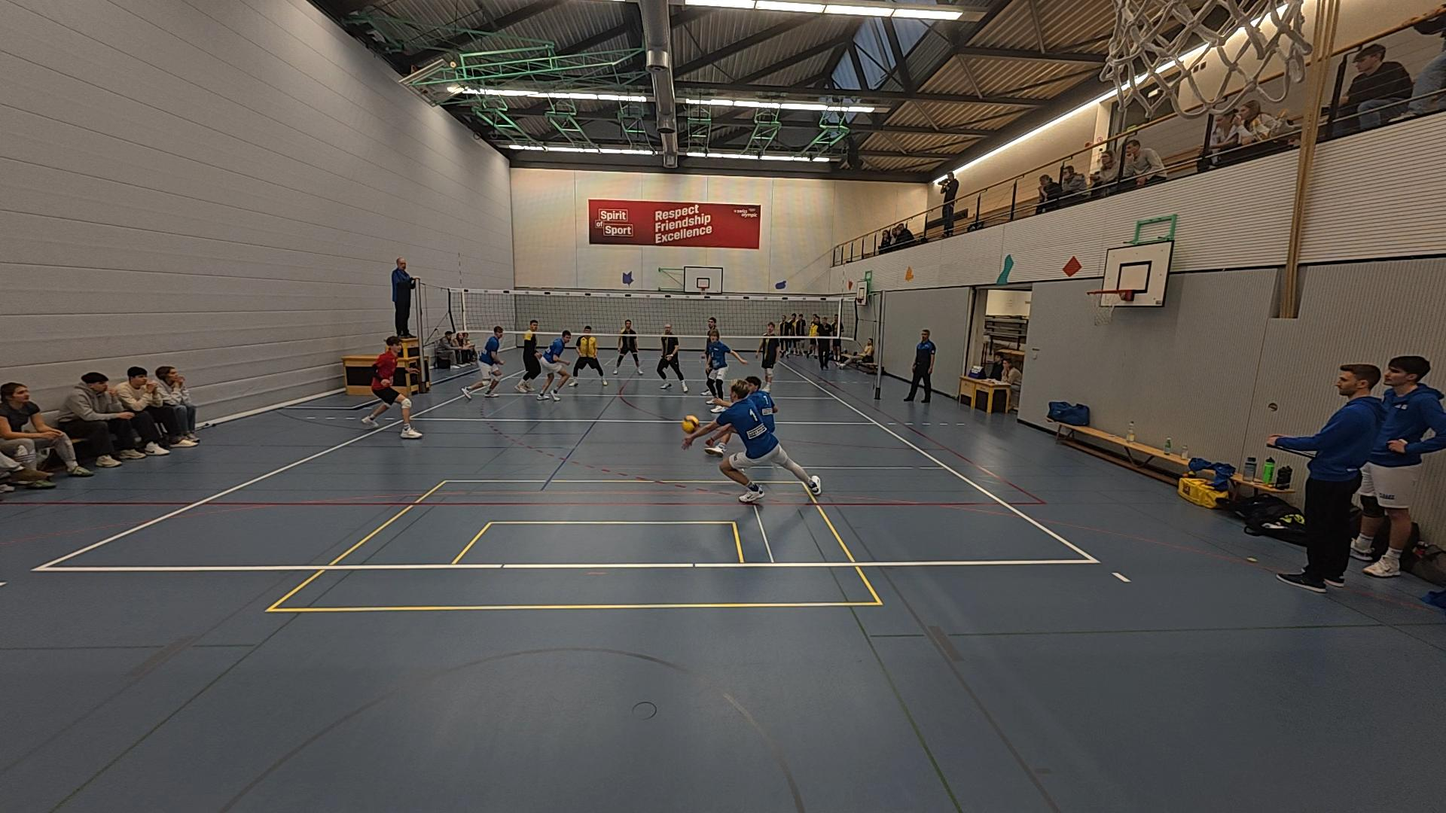difesa: (701, 376, 822, 503)
